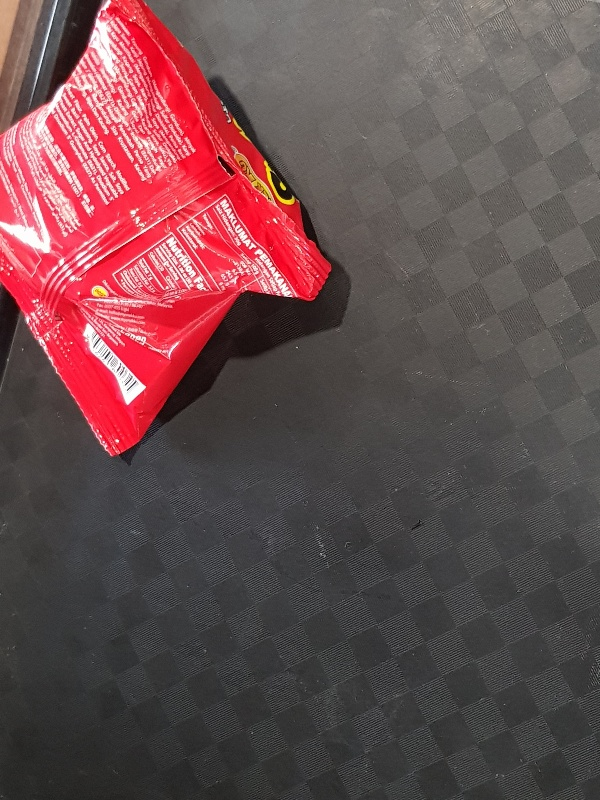ShoyueMi Spicy Flavoured Snacks: (2, 1, 332, 458)
